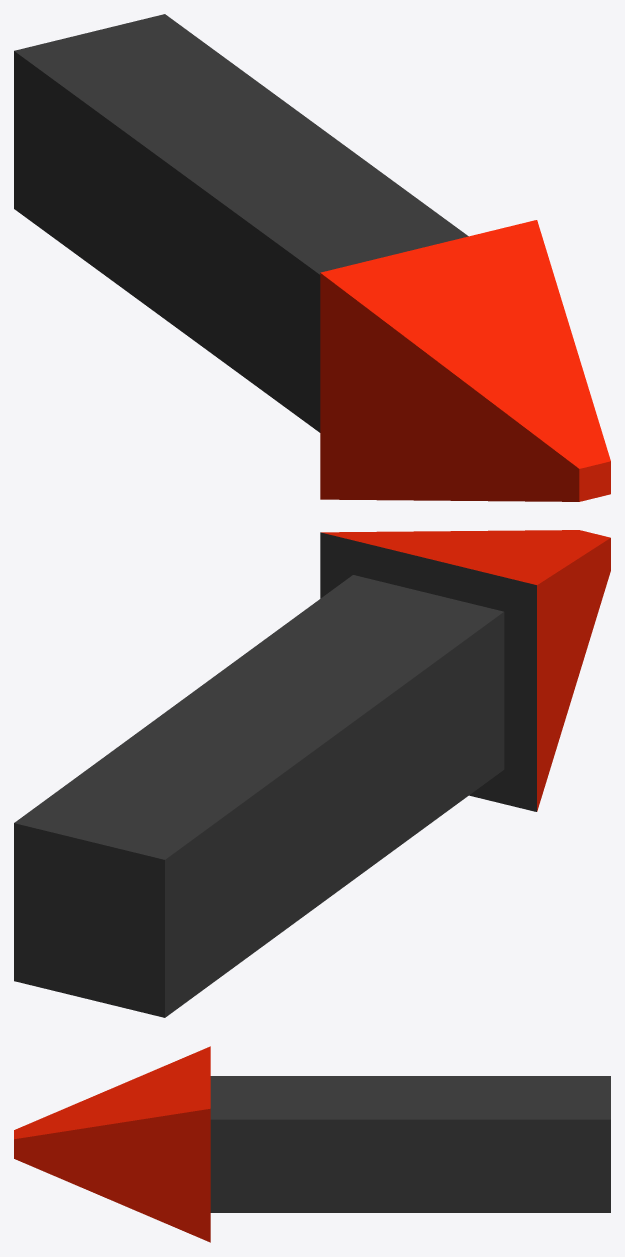
Rendered from RocketBullet.fbx.
The picture shows the model from 3 angles, top to bottom: view 1: azimuth 30°, elevation 25°; view 2: azimuth 150°, elevation 25°; view 3: azimuth 270°, elevation 25°; orthographic projection. The views are drawn at different scales.
Parts seen in each view (by area): view 1: Cube.011; view 2: Cube.011; view 3: Cube.011.
Part boxes in pixels (left/top/right/bottom): Cube.011: left=14, top=14, right=610, bottom=501; Cube.011: left=14, top=530, right=610, bottom=1017; Cube.011: left=14, top=1046, right=610, bottom=1242.
Size of the model in its own units: 0.224 by 0.224 by 0.9048.
